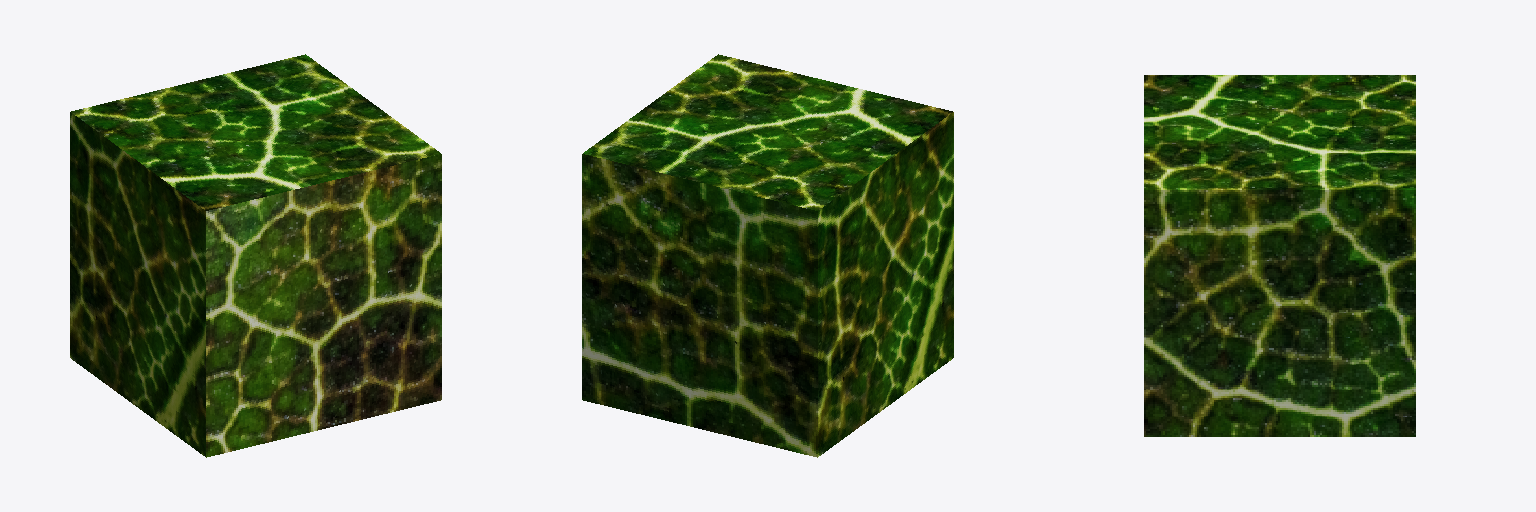
3 renders of one model, left to right at view 1: azimuth 30°, elevation 25°; view 2: azimuth 150°, elevation 25°; view 3: azimuth 270°, elevation 25°, orthographic.
Parts seen in each view (by area): view 1: Cube; view 2: Cube; view 3: Cube.
Boxes of the visible parts, box(x1,y1,x2,y2) form: Cube: box(70, 54, 441, 457); Cube: box(582, 54, 953, 457); Cube: box(1144, 75, 1415, 436).
Size of the model in its own units: 2 by 2 by 2.
1 materials, 1 textured.